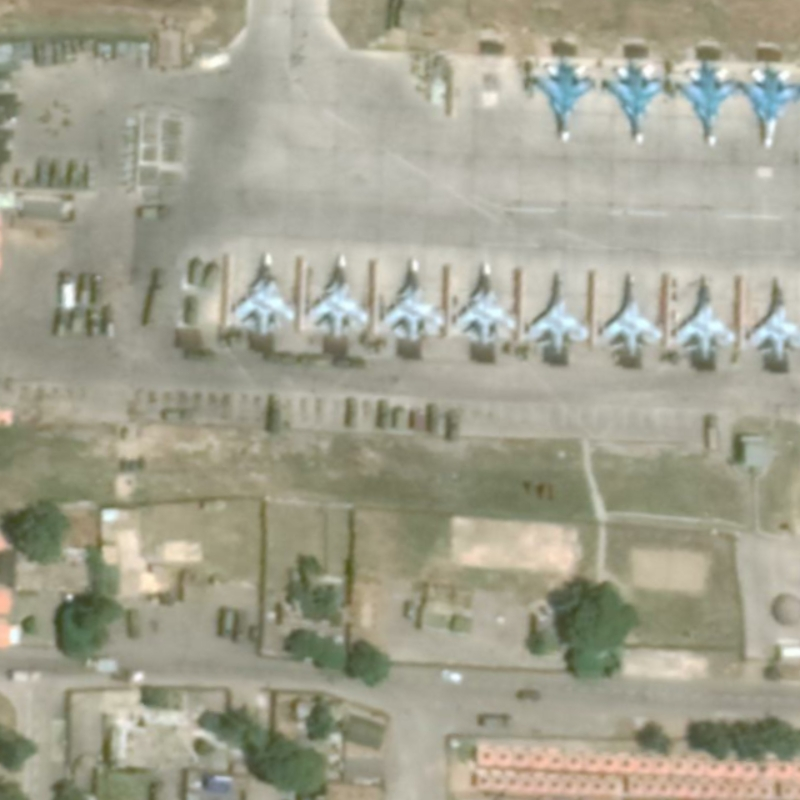A1: (674, 271, 738, 364), (524, 268, 591, 356), (599, 270, 665, 359), (745, 273, 800, 363)
A19: (529, 54, 598, 147), (453, 256, 519, 350), (231, 249, 300, 338), (380, 254, 448, 344), (305, 251, 372, 341), (601, 55, 664, 146), (740, 58, 800, 153), (677, 56, 737, 150)
